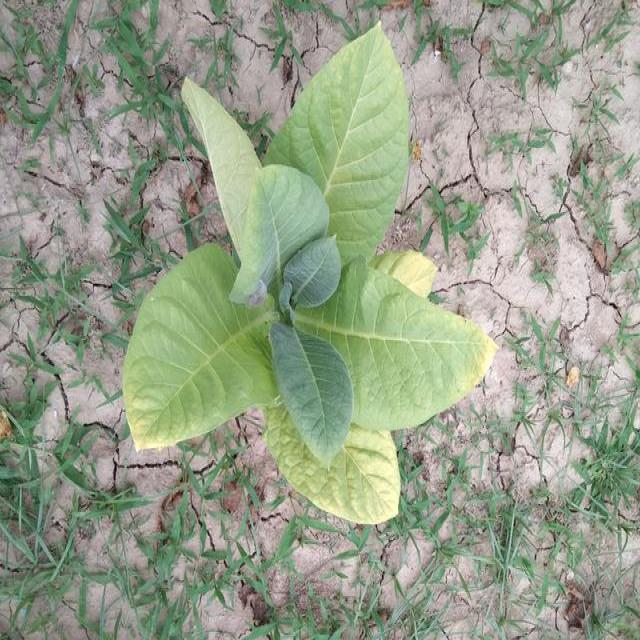crop: (118, 24, 494, 522)
